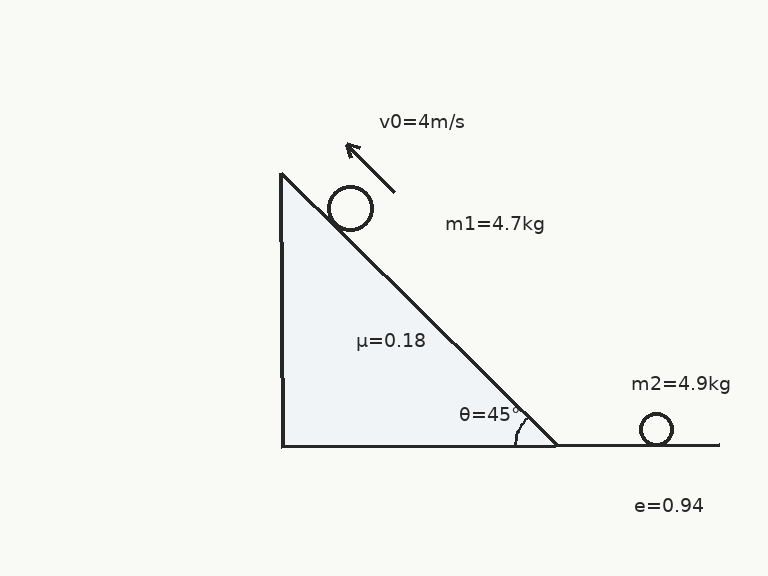ball: (325, 183, 375, 233), (637, 410, 675, 448)
ramp: (279, 170, 557, 448)
